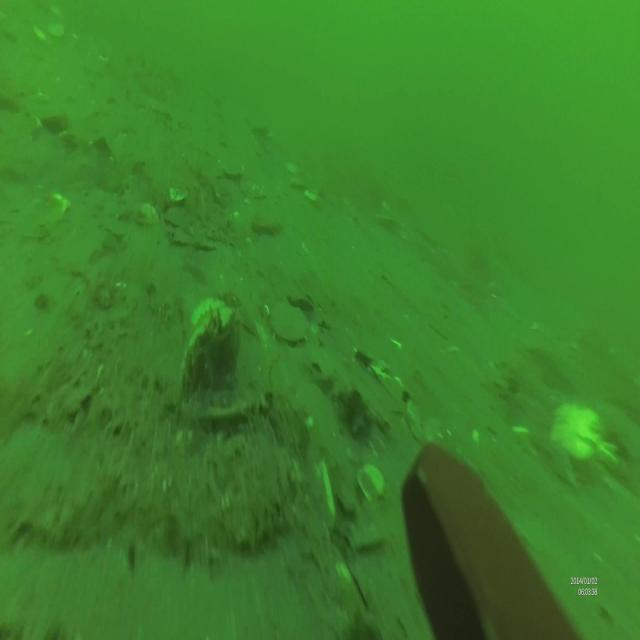scallop: (271, 298, 309, 344)
